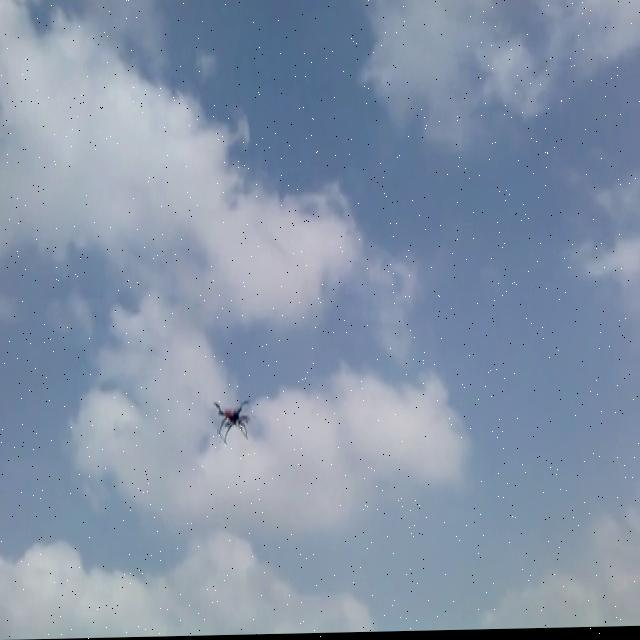drone: (212, 394, 254, 446)
